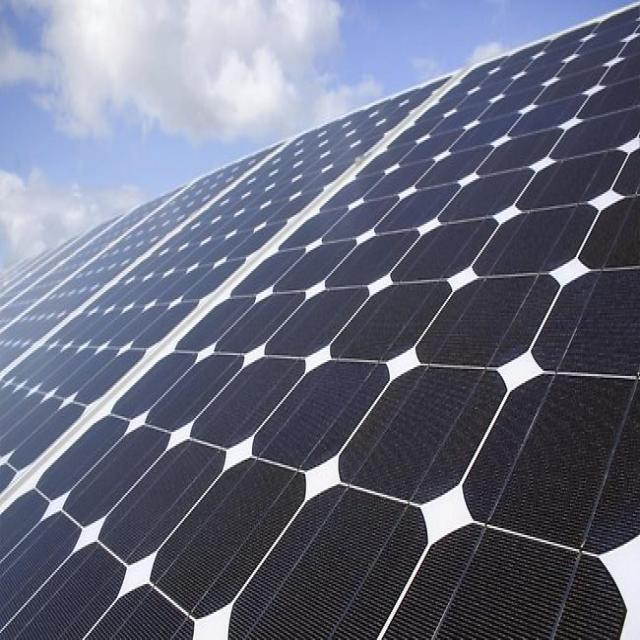clean-solar-panel: (1, 7, 640, 639)
